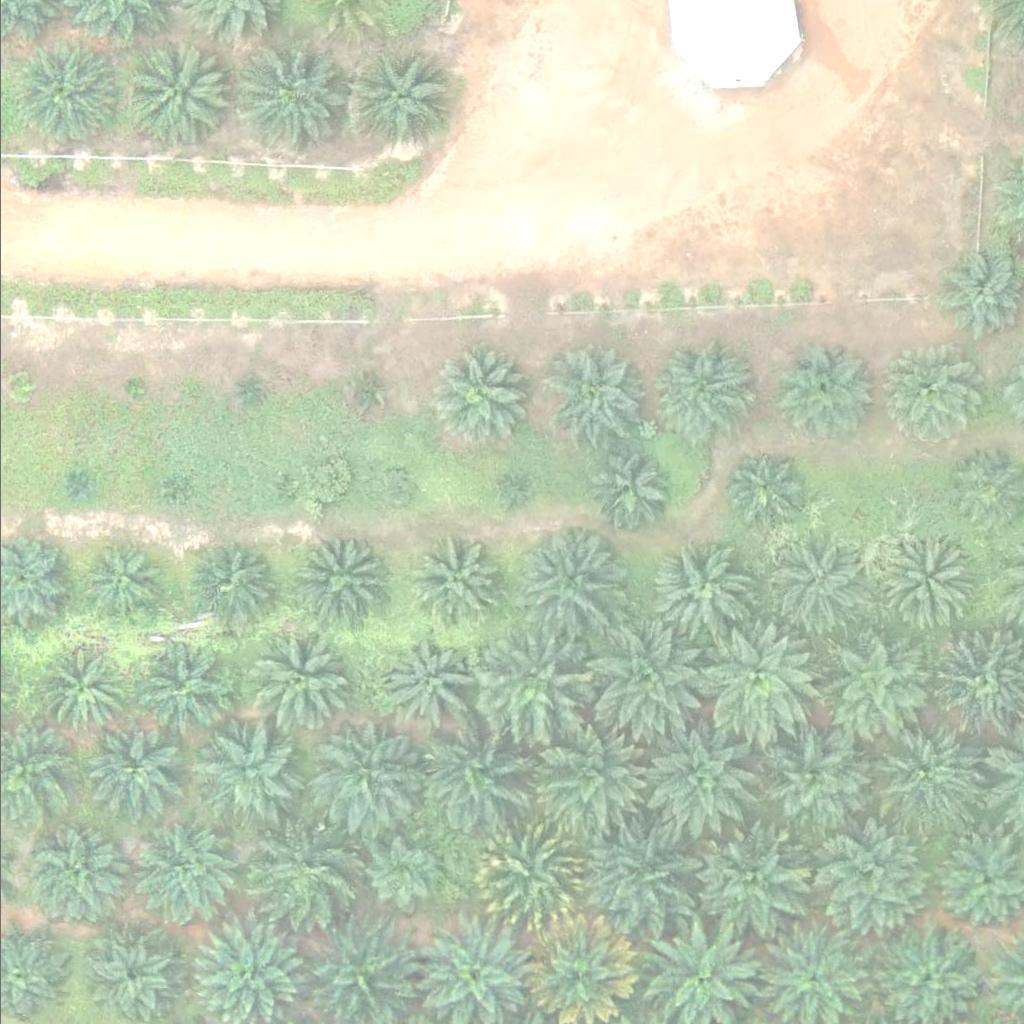Kelapa_Sawit: (512, 524, 626, 637), (869, 716, 982, 829), (754, 724, 867, 837), (814, 824, 927, 937), (700, 827, 813, 940), (582, 826, 695, 939), (472, 817, 585, 930), (584, 624, 698, 736), (414, 718, 528, 830), (311, 722, 425, 834), (478, 627, 592, 739), (816, 624, 929, 736), (695, 623, 808, 735), (643, 726, 756, 838), (528, 715, 641, 827), (235, 43, 348, 155), (653, 337, 754, 437), (874, 530, 975, 630), (195, 721, 296, 821), (246, 630, 347, 730), (134, 638, 235, 738), (542, 345, 643, 445), (434, 343, 535, 443), (22, 819, 123, 919), (347, 45, 448, 145), (880, 347, 980, 447), (773, 342, 873, 442), (761, 540, 861, 640), (648, 542, 748, 642), (252, 826, 352, 926), (131, 819, 231, 919), (128, 40, 228, 140), (14, 45, 114, 145), (77, 542, 166, 630), (84, 927, 172, 1015), (186, 539, 274, 627), (34, 648, 122, 736), (82, 728, 170, 815), (381, 640, 469, 727), (414, 540, 502, 627), (292, 533, 380, 620), (585, 446, 673, 533), (725, 453, 801, 528), (365, 835, 441, 910), (372, 471, 410, 509), (500, 484, 525, 509), (270, 480, 295, 505), (154, 474, 179, 499), (350, 380, 375, 405), (237, 380, 262, 405), (119, 376, 144, 401), (7, 372, 32, 397), (65, 475, 90, 500)
